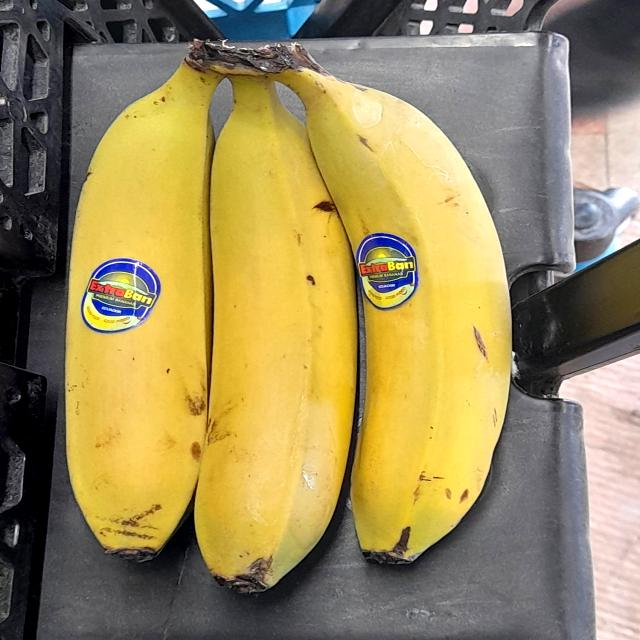banana: (24, 10, 531, 593), (260, 29, 530, 579), (45, 33, 272, 580)
